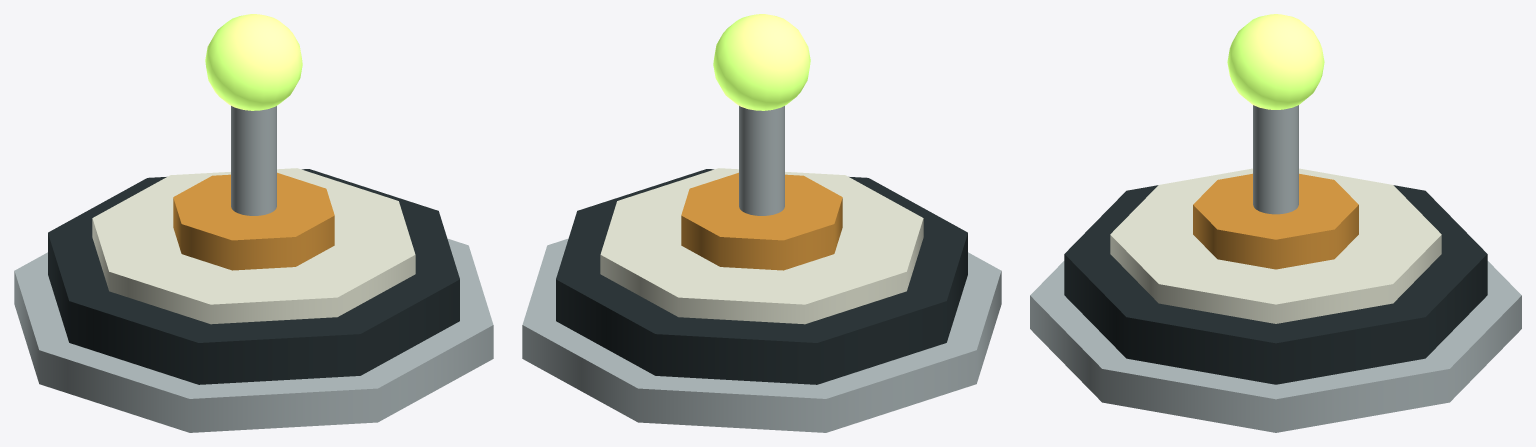
The model's file is station-BmsraJai.glb.
3 renders of one model, left to right at view 1: azimuth 30°, elevation 25°; view 2: azimuth 150°, elevation 25°; view 3: azimuth 270°, elevation 25°, orthographic.
Size of the model in its own units: 1.72 by 1.2 by 1.72.
